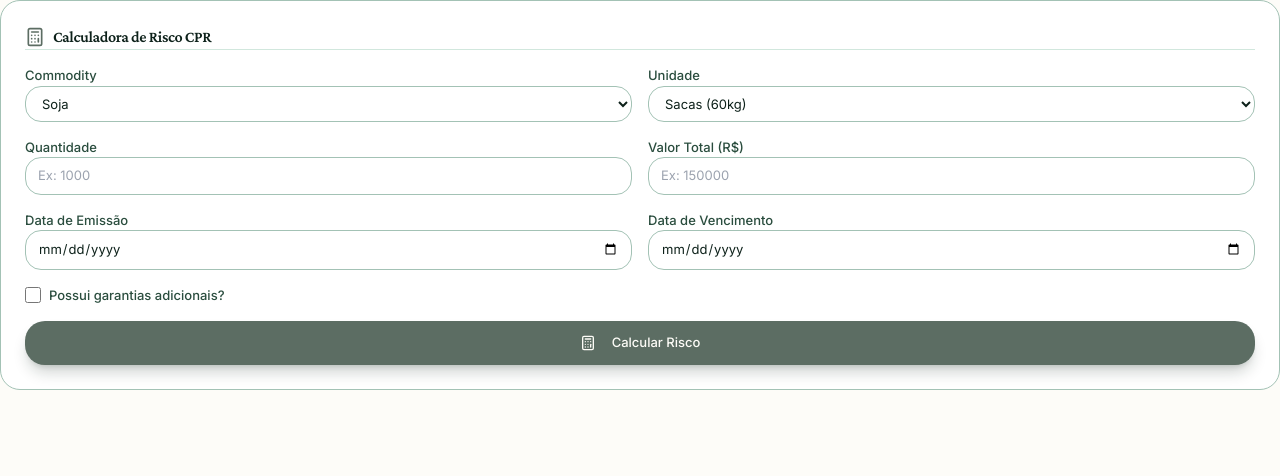
Test case: RiskCalculatorContainer › form rendering › should show guarantee value field when checkbox is checked
Click the checkbox labelled "Possui garantias adicionais?" at (33, 295), box x1=25 y1=287 x2=41 y2=303
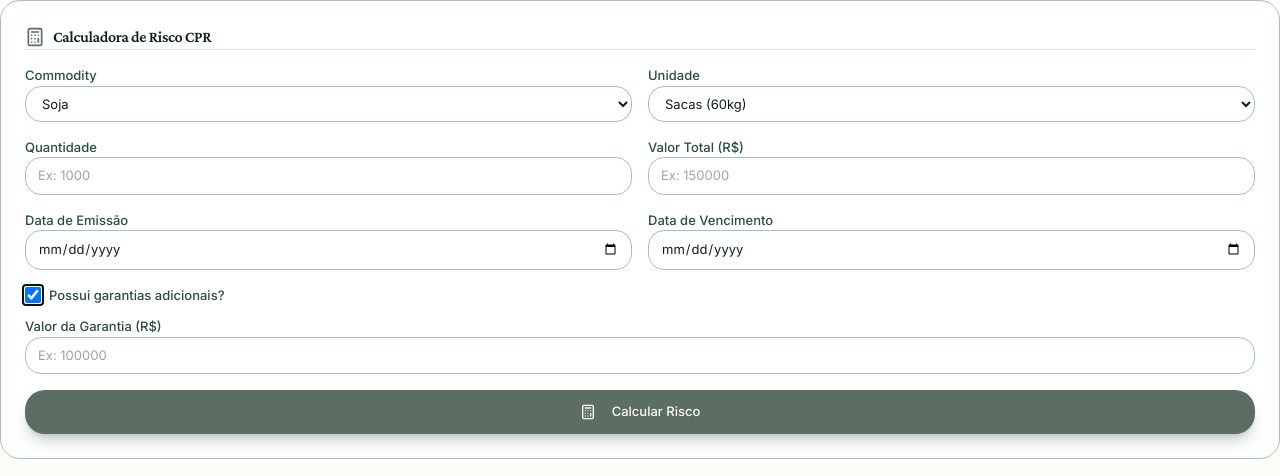
Now the number field labelled "Valor da Garantia (R$)" is shown, box x1=25 y1=336 x2=1255 y2=374
